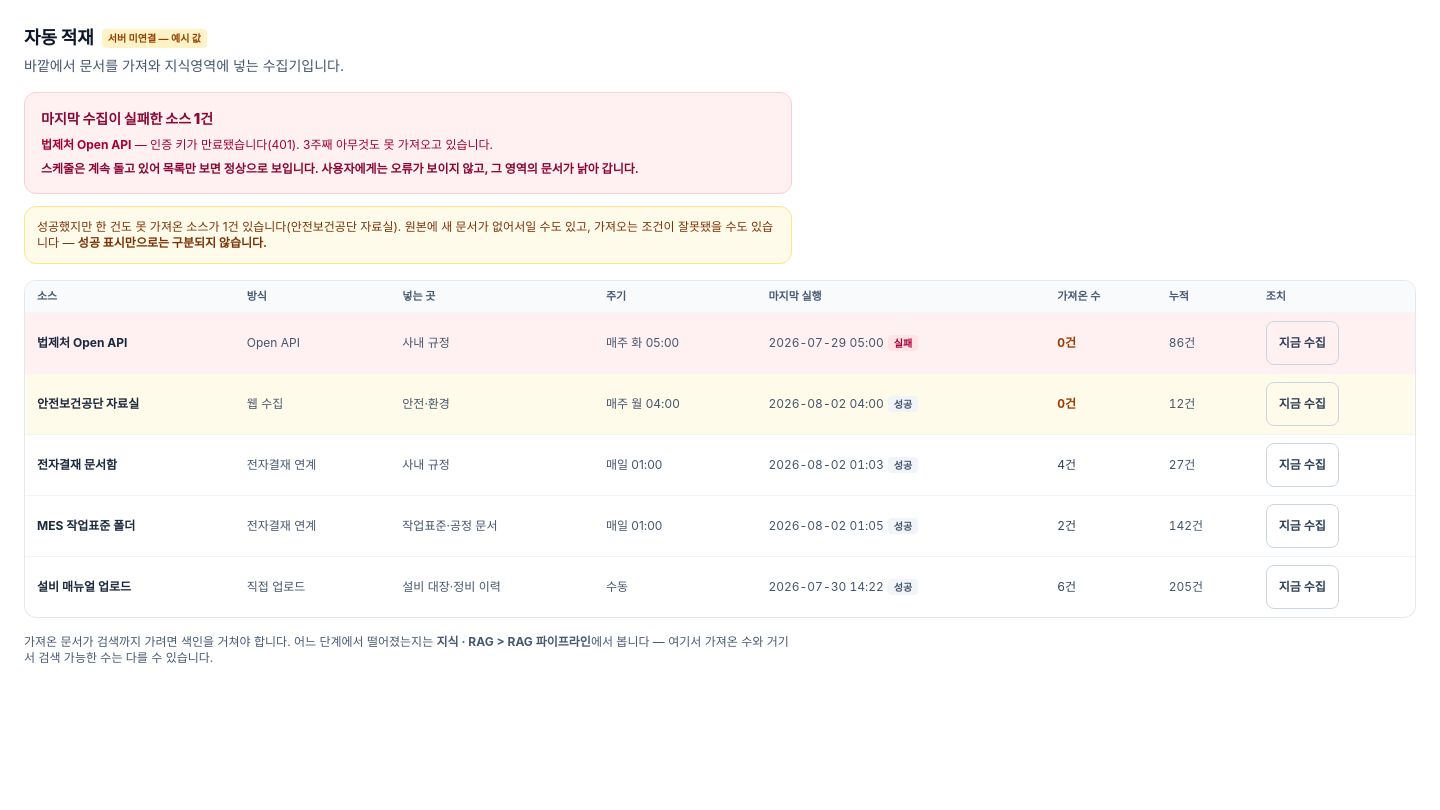
자동 적재 › 수집 실행은 성공한 척하지 않는다
Click the button "지금 수집" in the row of "매주 화 05:00": (1302, 343) [1266, 321, 1339, 365]
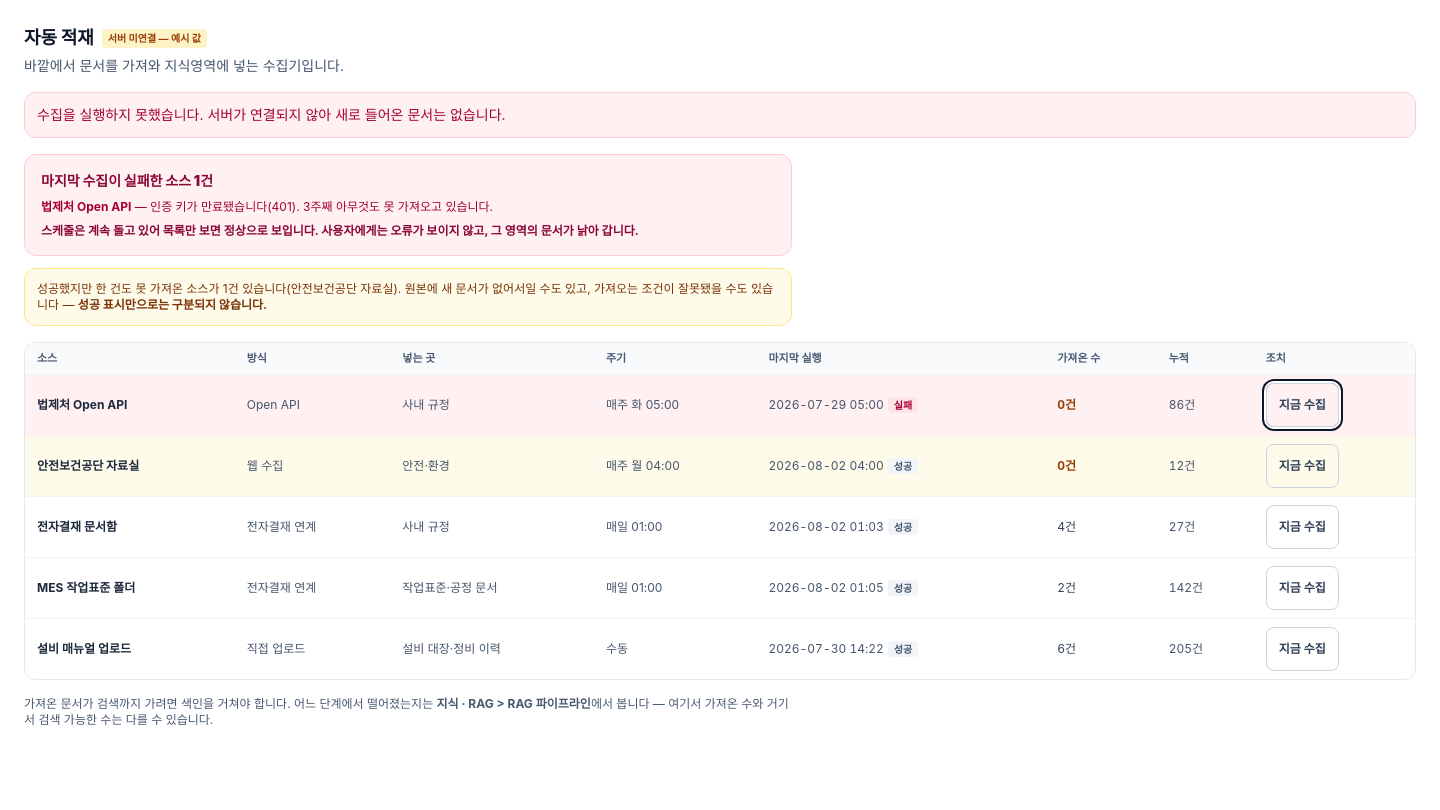
Now the message shows "새로 들어온 문서는 없습니다", box [37, 106, 506, 123]
